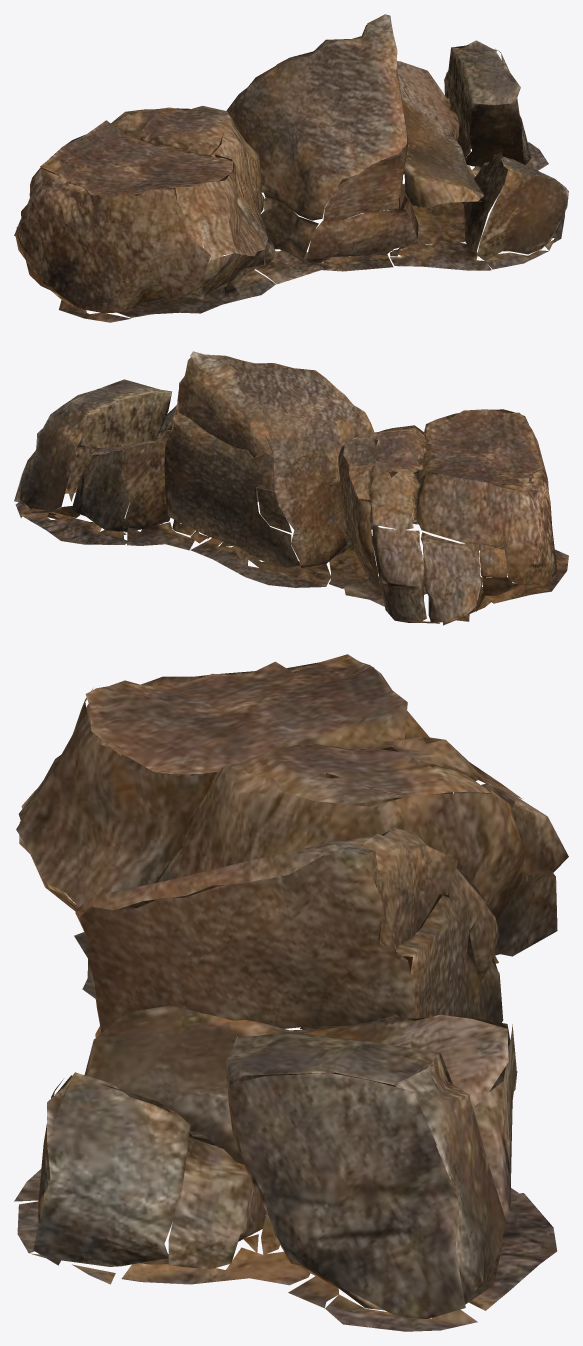
The model's file is namaqualand_boulder_02.glb.
3 renders of one model, top to bottom at view 1: azimuth 30°, elevation 25°; view 2: azimuth 150°, elevation 25°; view 3: azimuth 270°, elevation 25°, orthographic. The views are drawn at different scales.
Visible parts, largest first — view 1: boulder_02; view 2: boulder_02; view 3: boulder_02.
Boxes of the visible parts, x1=… form: boulder_02: x1=14, y1=14, x2=568, y2=322; boulder_02: x1=14, y1=351, x2=568, y2=625; boulder_02: x1=14, y1=654, x2=568, y2=1331.
Size of the model in its own units: 2.51 by 0.8832 by 1.24.
Materials: 1 (1 with a texture image).
